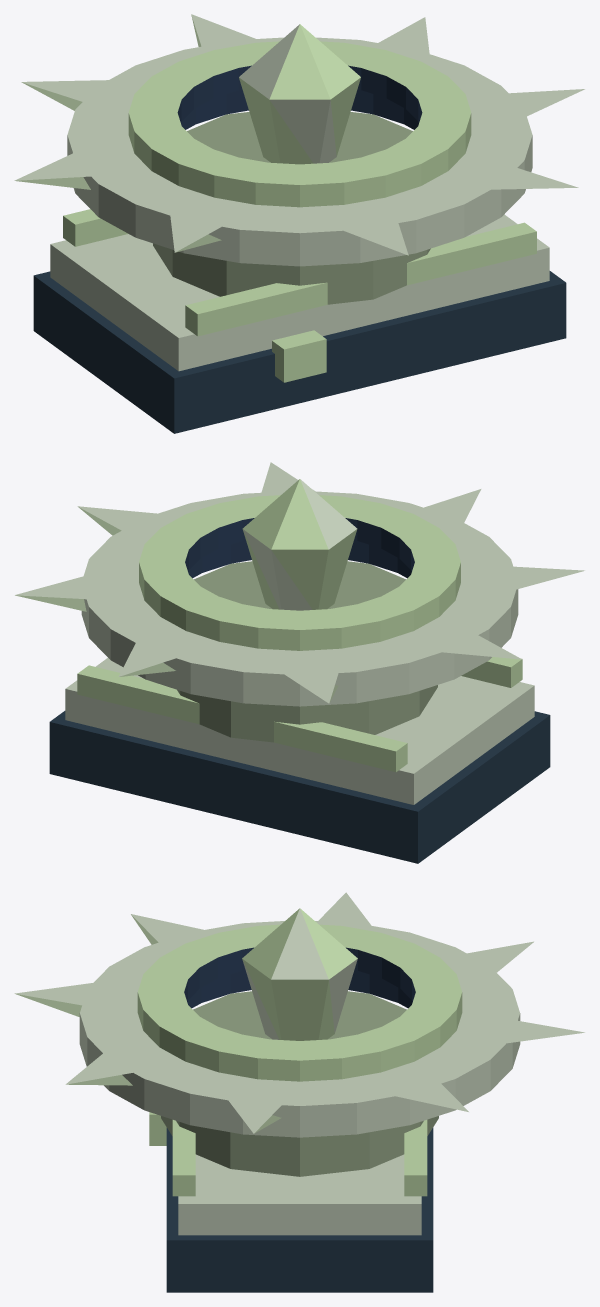
Rendered from module-blade.glb.
3 renders of one model, top to bottom at view 1: azimuth 30°, elevation 25°; view 2: azimuth 150°, elevation 25°; view 3: azimuth 270°, elevation 25°, orthographic. The views are drawn at different scales.
Visible parts, largest first — view 1: 环刃发生器; view 2: 环刃发生器; view 3: 环刃发生器.
Boxes of the visible parts, bbox=[...] form: 环刃发生器: bbox=[14, 14, 584, 433]; 环刃发生器: bbox=[15, 462, 584, 863]; 环刃发生器: bbox=[14, 892, 584, 1292].
Size of the model in its own units: 0.4936 by 0.28 by 0.4936.
